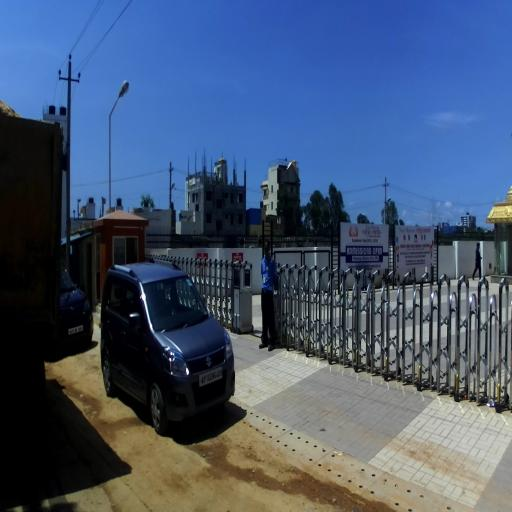street_light_0: (109, 80, 129, 118), (169, 182, 175, 196)
